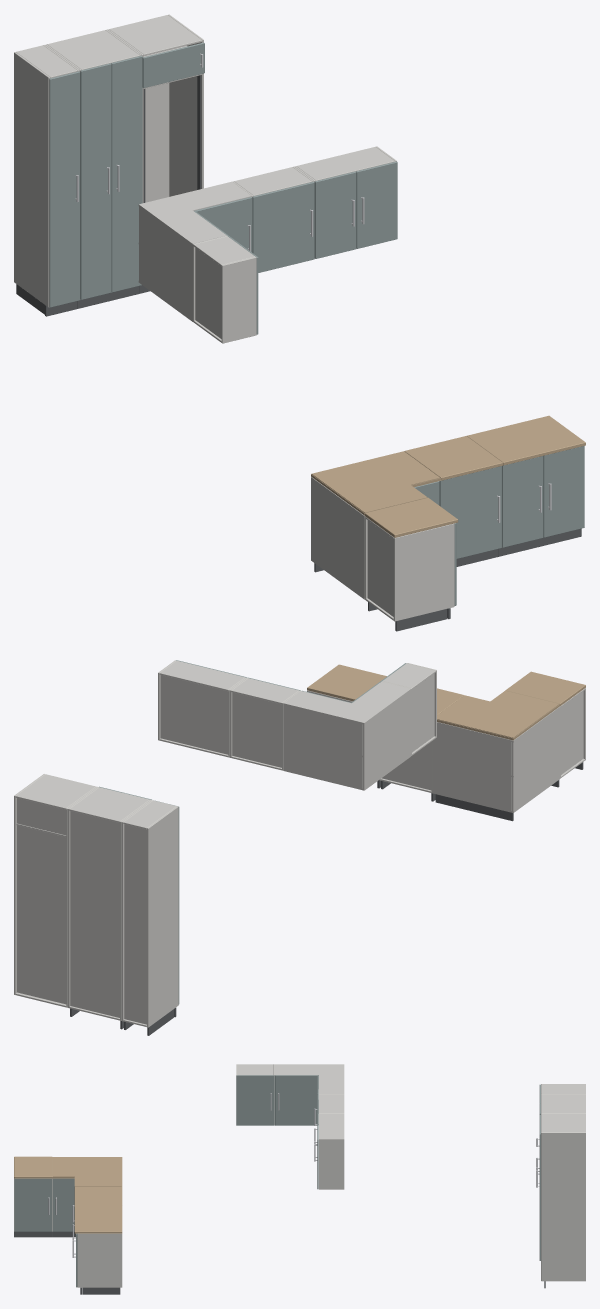
File: fitted-kitchen-and-bathroom-builder-fitout-connector-c-78d3ebdb__17933.glb
The picture shows the model from 3 angles, top to bottom: view 1: azimuth 30°, elevation 25°; view 2: azimuth 150°, elevation 25°; view 3: azimuth 270°, elevation 25°; orthographic projection. The views are drawn at different scales.
Parts seen in each view (by area): view 1: 010-tall-300-pull-out/0, 009-tall-600-fridge-housing/0, 003-base-500/0, 008-tall-600-larder/door-left/front, 006-wall-900-corner/0, 010-tall-300-pull-out/pull-out/front, 008-tall-600-larder/door-right/front, 007-wall-500/0, 004-wall-600/door-left/front, 002-base-900-corner/2, 002-base-900-corner/0, 000-base-600/door-left/front (+13 smaller); view 2: 008-tall-600-larder/0, 009-tall-600-fridge-housing/0, 010-tall-300-pull-out/0, 006-wall-900-corner/0, 002-base-900-corner/0, 005-wall-800/0, 004-wall-600/0, 002-base-900-corner/2, 007-wall-500/0, 003-base-500/0, 001-base-800/2, 003-base-500/2 (+2 smaller); view 3: 009-tall-600-fridge-housing/0, 001-base-800/0, 006-wall-900-corner/door-return/front, 003-base-500/door-left/front, 005-wall-800/0, 007-wall-500/door-left/front, 002-base-900-corner/2, 001-base-800/2, 006-wall-900-corner/0, 002-base-900-corner/door-return/front, 000-base-600/2, 008-tall-600-larder/0 (+5 smaller).
Part boxes in pixels (x1,y1,x2,y2): 010-tall-300-pull-out/0: (14, 45, 79, 307); 009-tall-600-fridge-housing/0: (107, 14, 203, 203); 003-base-500/0: (365, 516, 454, 621); 008-tall-600-larder/door-left/front: (80, 63, 111, 299); 006-wall-900-corner/0: (138, 181, 251, 321); 010-tall-300-pull-out/pull-out/front: (49, 71, 80, 307); 008-tall-600-larder/door-right/front: (111, 55, 142, 292); 007-wall-500/0: (192, 235, 256, 343); 004-wall-600/door-left/front: (252, 181, 314, 272); 002-base-900-corner/2: (311, 451, 440, 515); 002-base-900-corner/0: (311, 476, 364, 599); 000-base-600/door-left/front: (439, 466, 501, 558); 008-tall-600-larder/0: (68, 787, 151, 1020); 009-tall-600-fridge-housing/0: (14, 774, 97, 1007); 010-tall-300-pull-out/0: (121, 800, 178, 1027); 006-wall-900-corner/0: (283, 681, 410, 790); 002-base-900-corner/0: (432, 706, 560, 812); 005-wall-800/0: (158, 660, 246, 757); 004-wall-600/0: (230, 678, 299, 770); 002-base-900-corner/2: (437, 690, 560, 740); 007-wall-500/0: (382, 663, 436, 755); 003-base-500/0: (560, 688, 585, 778); 001-base-800/2: (307, 664, 386, 701); 003-base-500/2: (505, 671, 585, 705); 009-tall-600-fridge-housing/0: (541, 1113, 585, 1281); 001-base-800/0: (77, 1233, 122, 1287); 006-wall-900-corner/door-return/front: (275, 1075, 317, 1125); 003-base-500/door-left/front: (14, 1178, 52, 1231); 005-wall-800/0: (319, 1113, 344, 1189); 007-wall-500/door-left/front: (236, 1075, 274, 1125); 002-base-900-corner/2: (52, 1157, 122, 1186); 001-base-800/2: (74, 1205, 122, 1233); 006-wall-900-corner/0: (275, 1064, 344, 1124); 002-base-900-corner/door-return/front: (53, 1178, 74, 1231); 000-base-600/2: (74, 1186, 122, 1205); 008-tall-600-larder/0: (541, 1093, 585, 1113).
Bounding box in the file's own units: 2.3 × 2.22 × 7.4.
